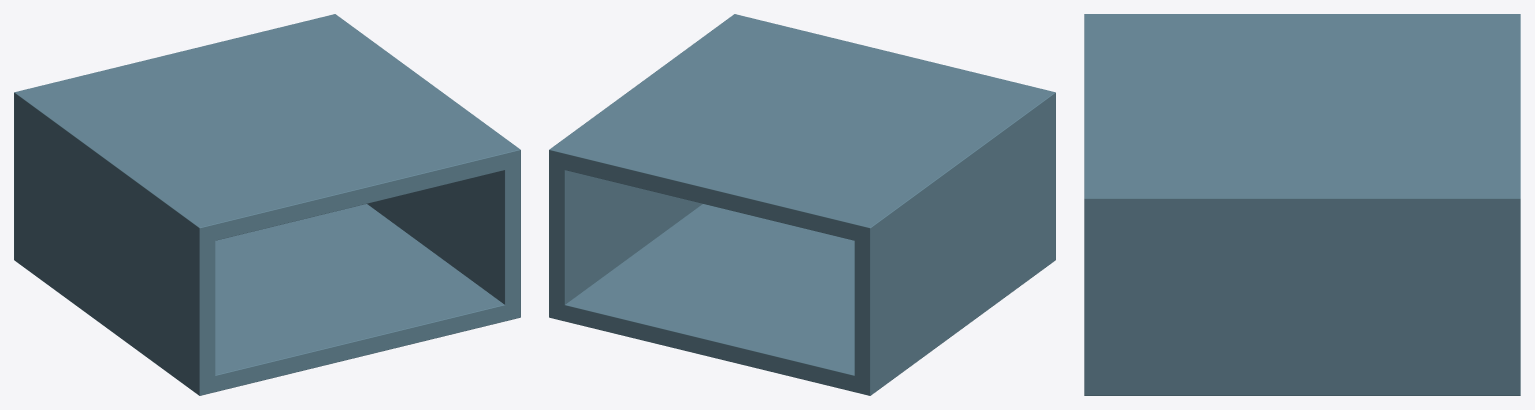
Rendered from MOD-1X05-A-O-AC.glb.
The picture shows the model from 3 angles, left to right: view 1: azimuth 30°, elevation 25°; view 2: azimuth 150°, elevation 25°; view 3: azimuth 270°, elevation 25°; orthographic projection. The views are drawn at different scales.
Bounding box in the file's own units: 360 × 180 × 360.
